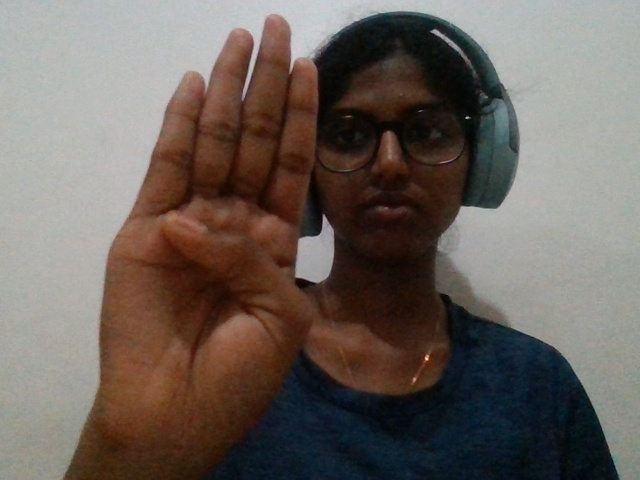B: (57, 9, 332, 480)
